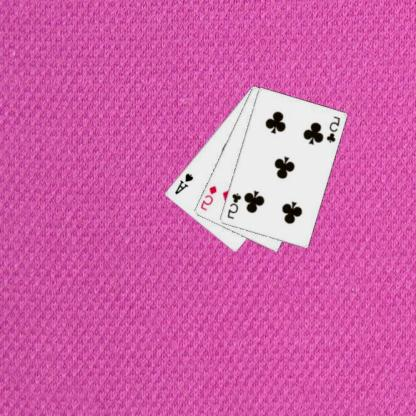5C: (226, 191, 244, 221), (325, 114, 343, 144)
5D: (199, 183, 220, 212)
AS: (174, 171, 196, 196)
